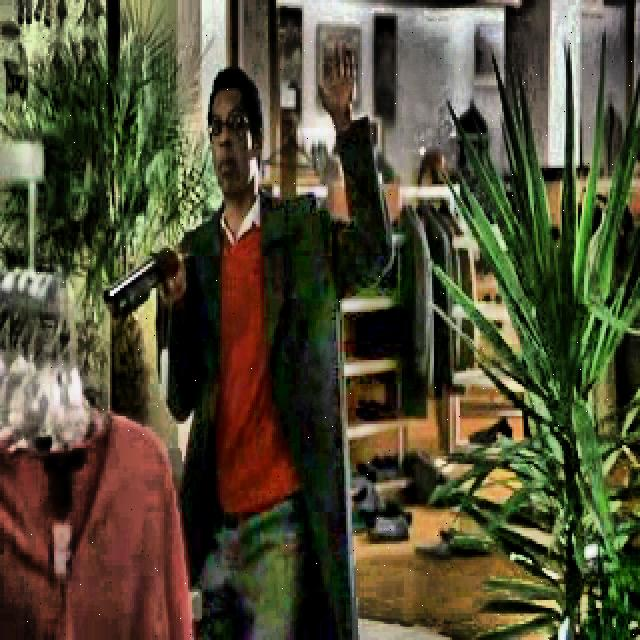L: (101, 52, 395, 636)
